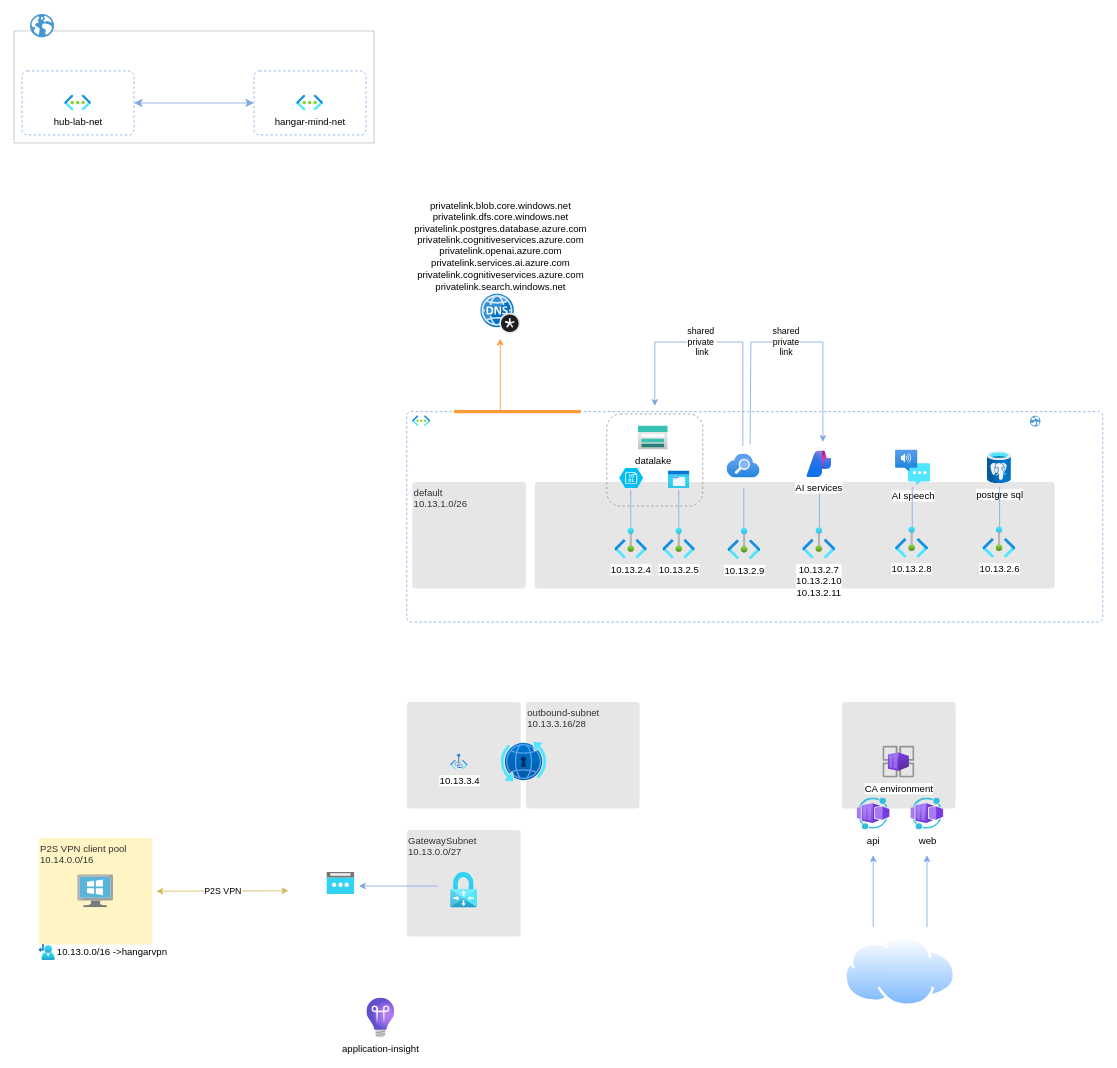
The diagram is 1117 pixels wide and 1068 high, and some of its shapes have lost their labels. Each missing label, with the box of its shape:
aca-subnet x.x.x.x: (842, 702, 955, 808)
ai search: (726, 454, 760, 478)
dns-resolver: (501, 742, 546, 782)
france central: (1030, 415, 1040, 426)
france-central: (13, 30, 374, 143)
hangarmind-spoke-01 10.13.0.0/16: (412, 415, 430, 426)
hangarvpn: (450, 872, 477, 907)
hangarvpn.<region>. cloudapp.azure.com: (326, 872, 354, 894)
inbound-subnet 10.13.3.0/28: (407, 702, 520, 808)
internet: (844, 936, 955, 1006)
PC client: (77, 874, 113, 907)
private-enpoints 10.13.2.0/26: (534, 482, 1054, 588)
